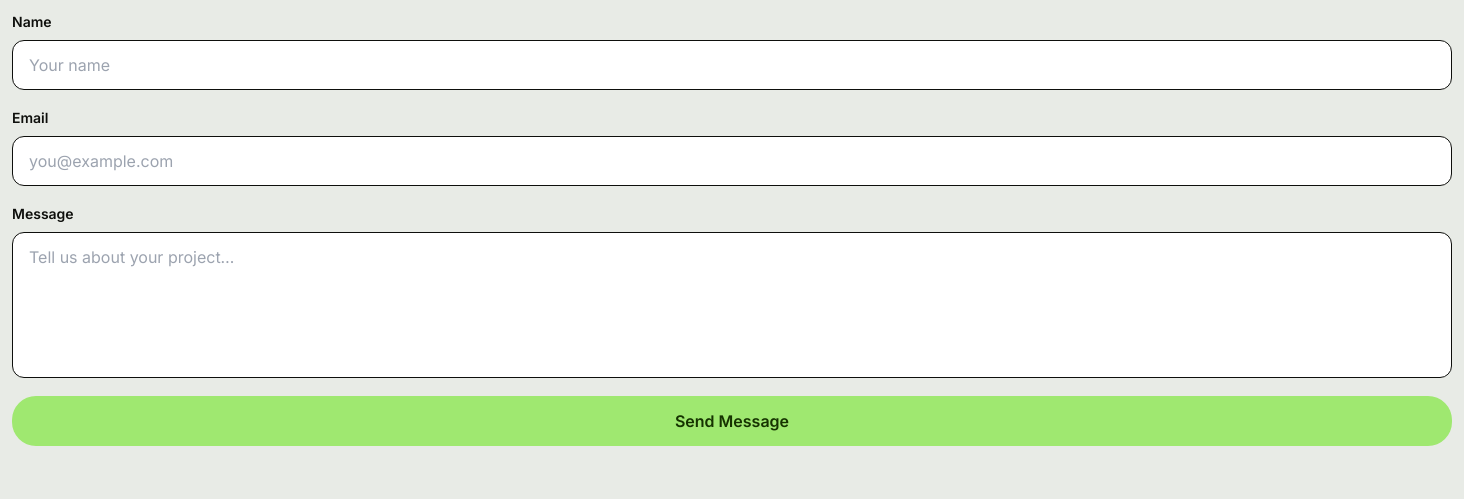
Scenario: ContactForm › shows error message on failed submission
Type "Alice" into the field labelled "Name" at point(732, 65), box [12,40,1452,90]
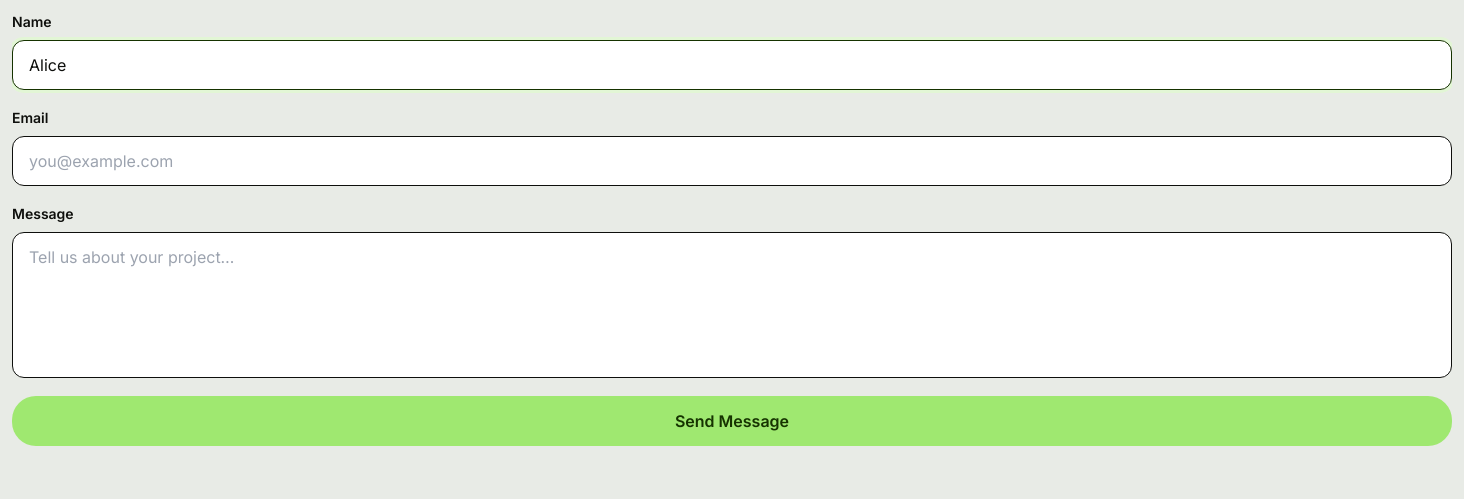
Type "alice@example.com" into the field labelled "Email" at point(732, 161), box [12,136,1452,186]
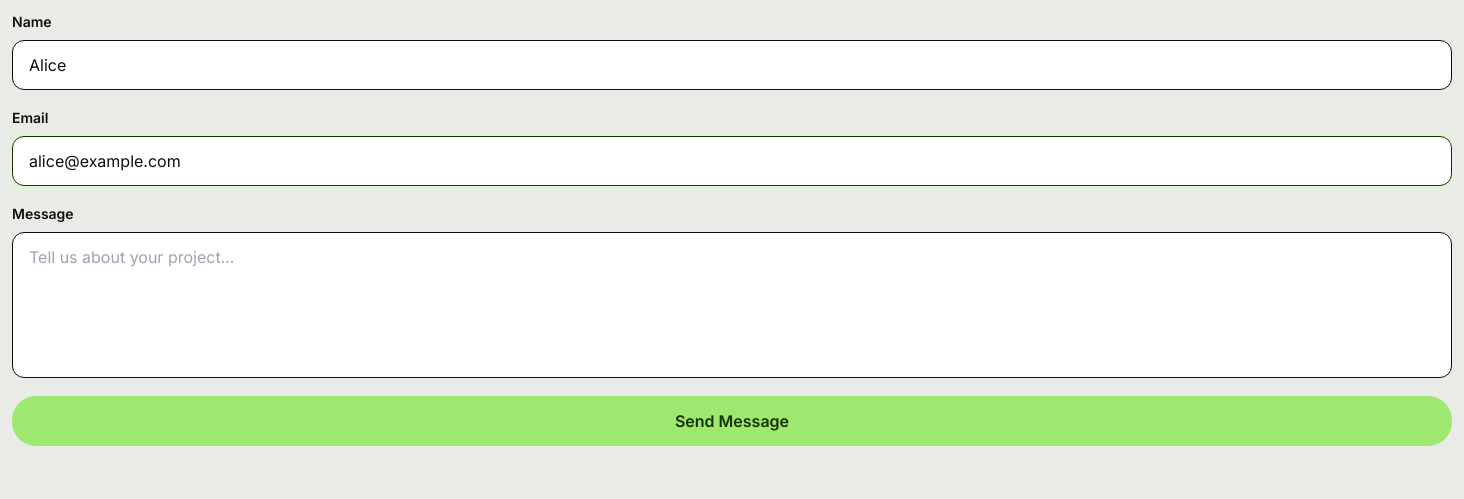
Type "Hello!" into the text box labelled "Message" at point(732, 305), box [12,232,1452,378]
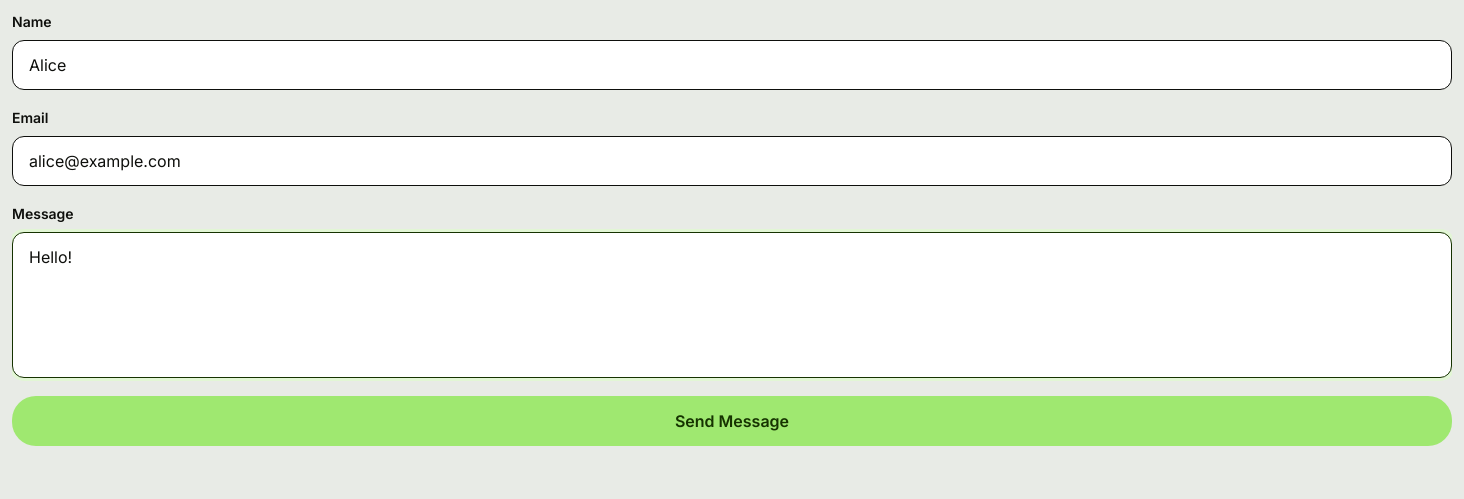
Click the button "Send Message" at point(732, 421), box [12,396,1452,446]
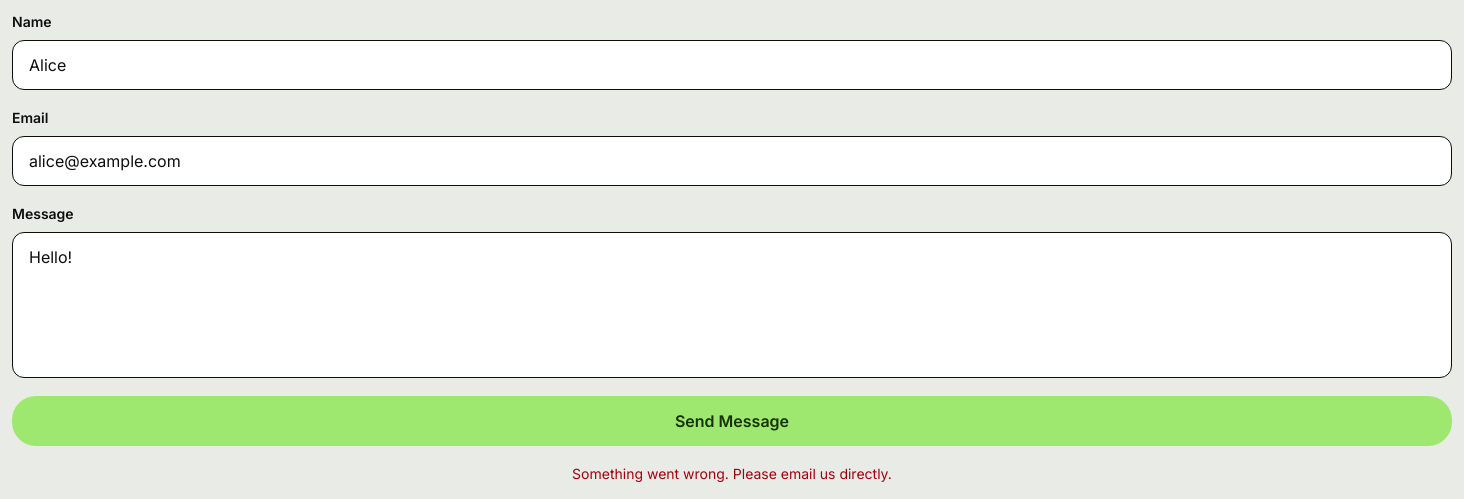
Check: the text "Something went wrong. Please email us directly." is shown, box [572,465,892,482]
